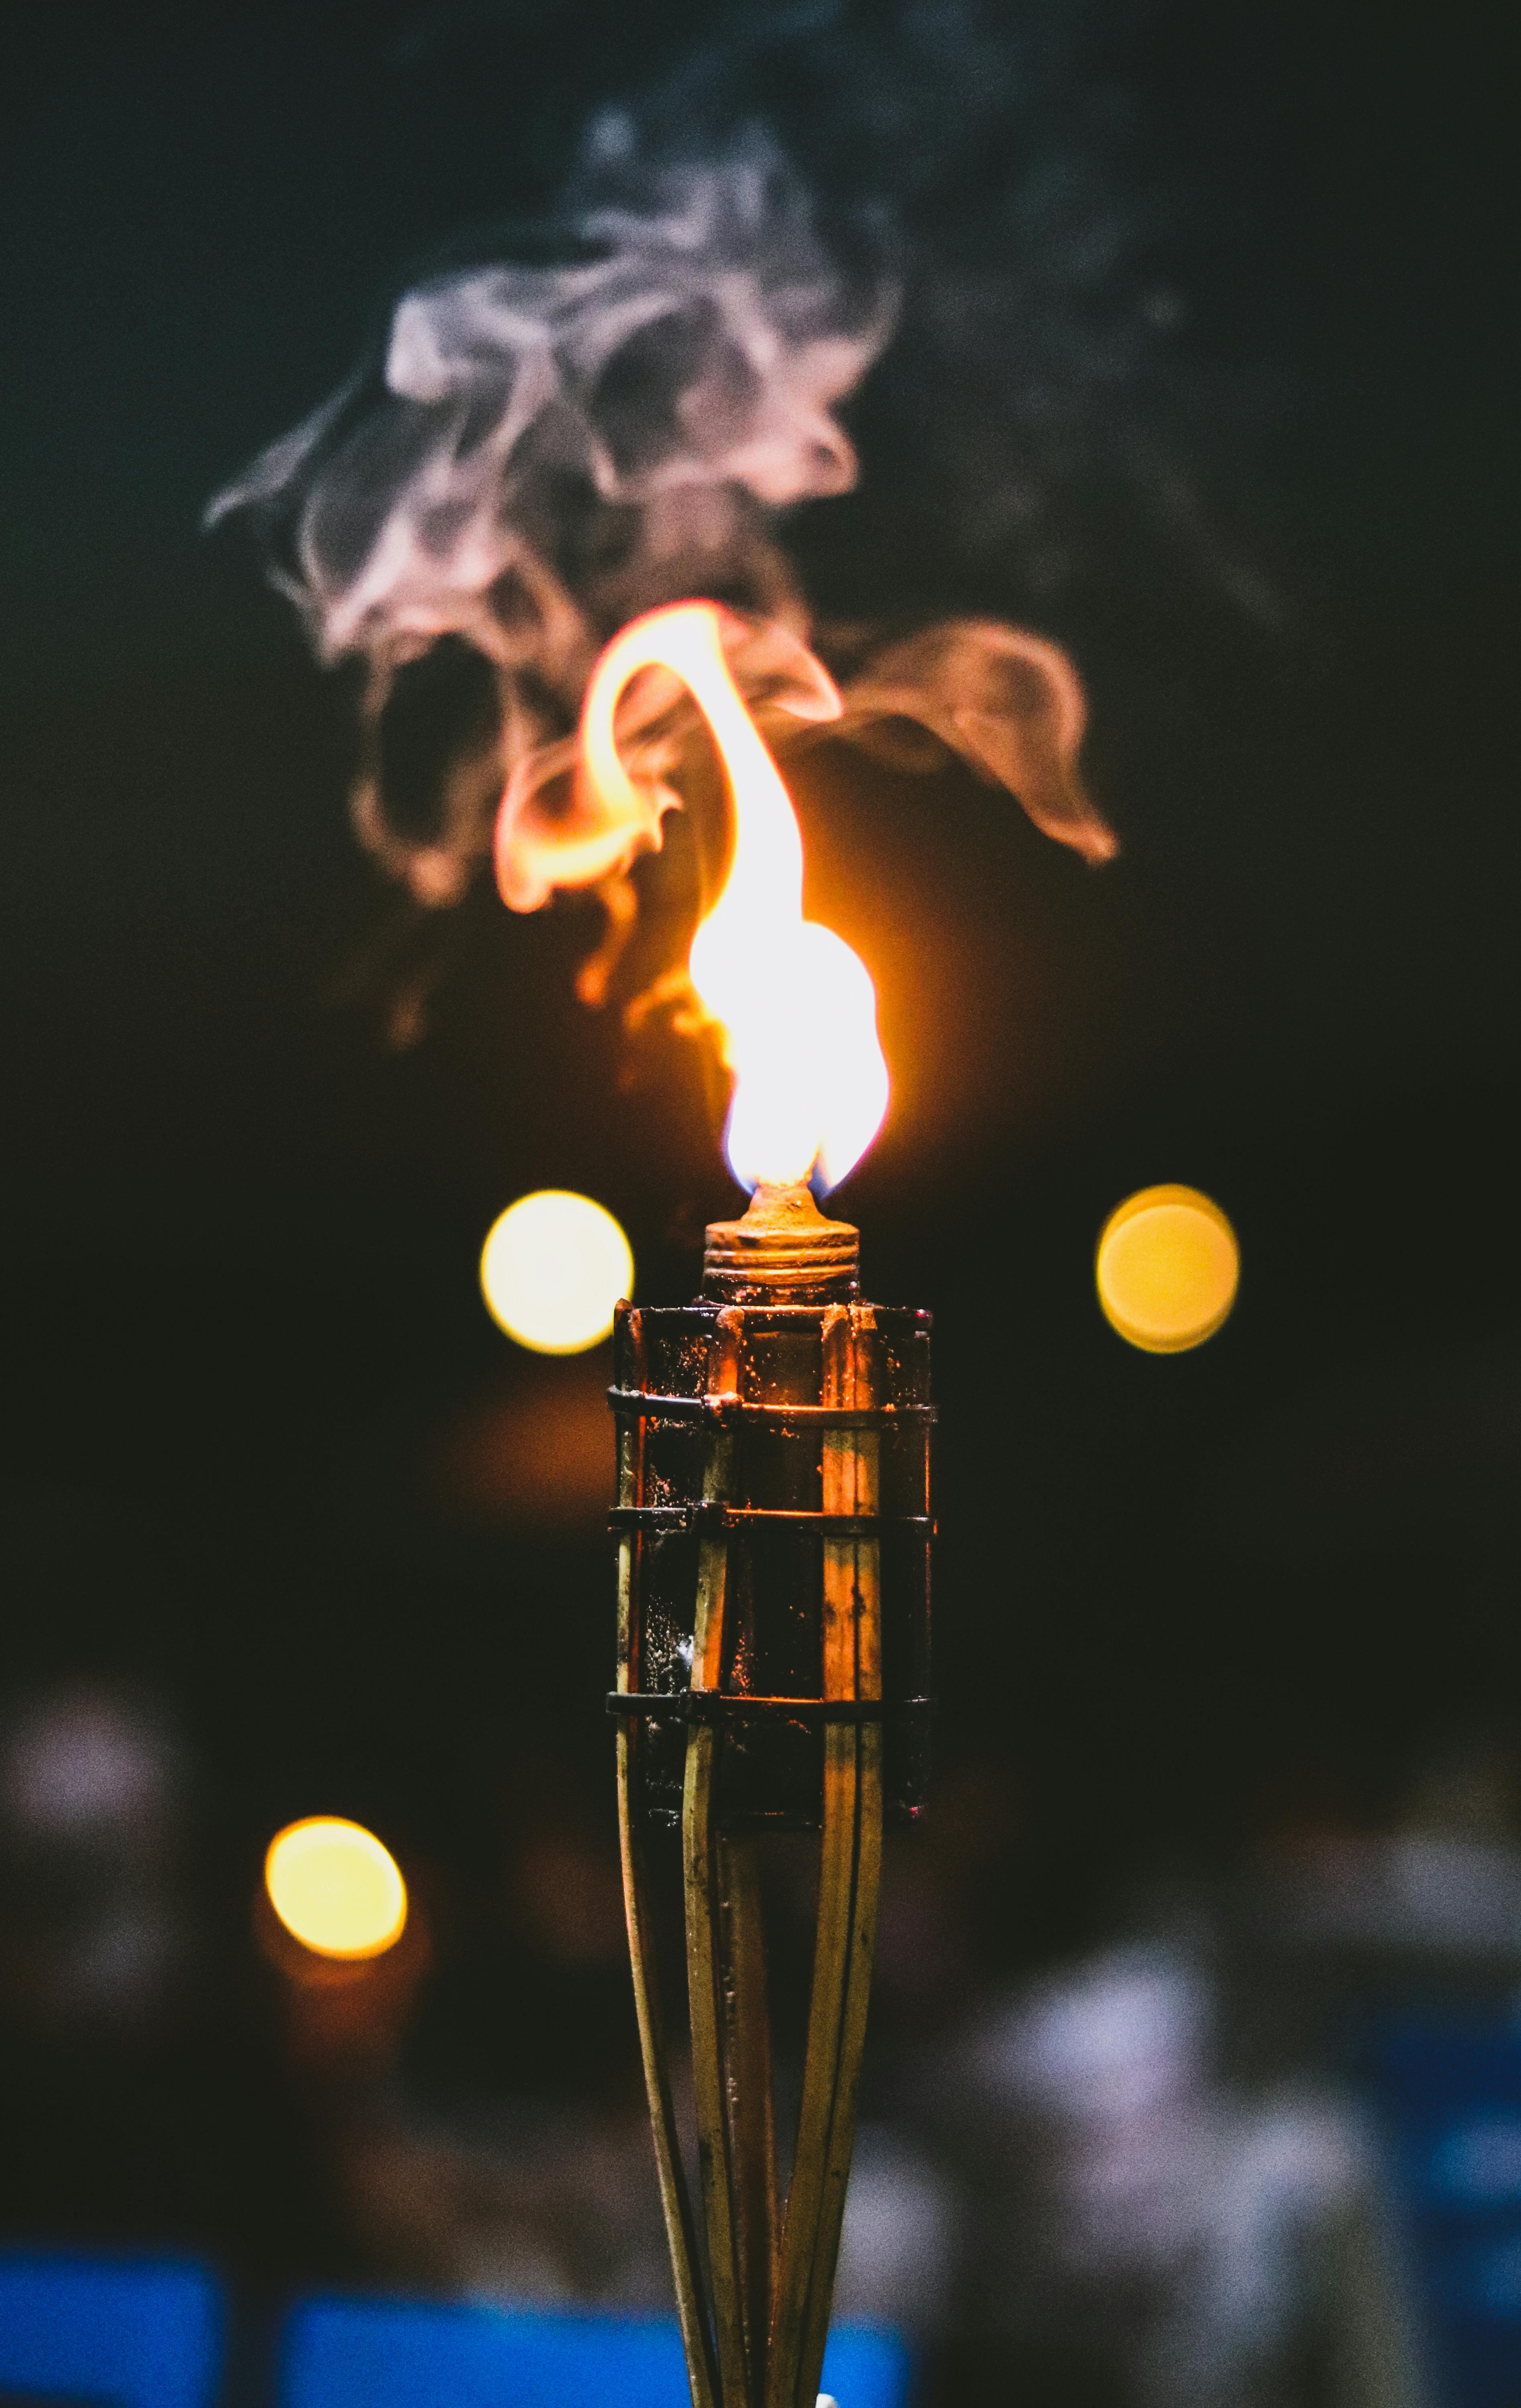Fire: (482, 590, 937, 1221)
